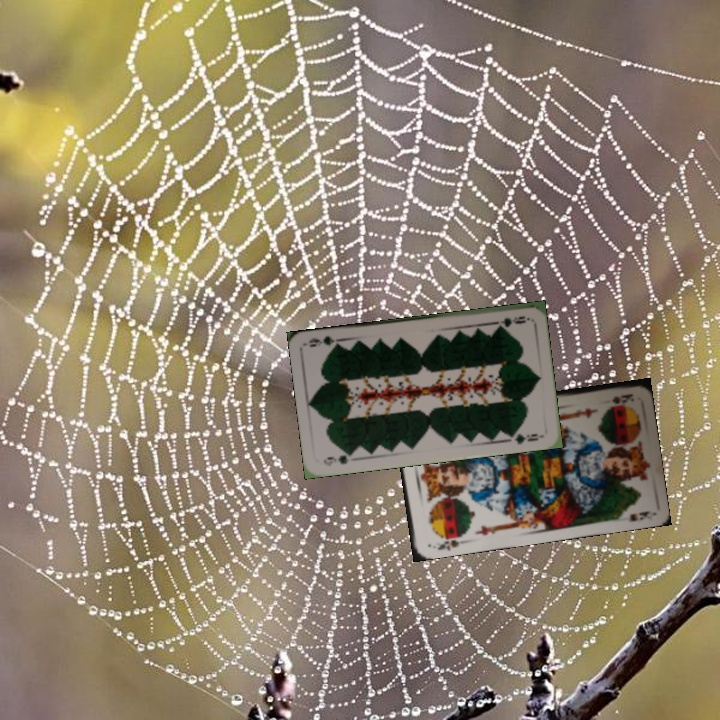G9: (319, 449, 357, 468), (490, 312, 531, 328)
SK: (433, 530, 467, 552), (607, 389, 637, 406)
